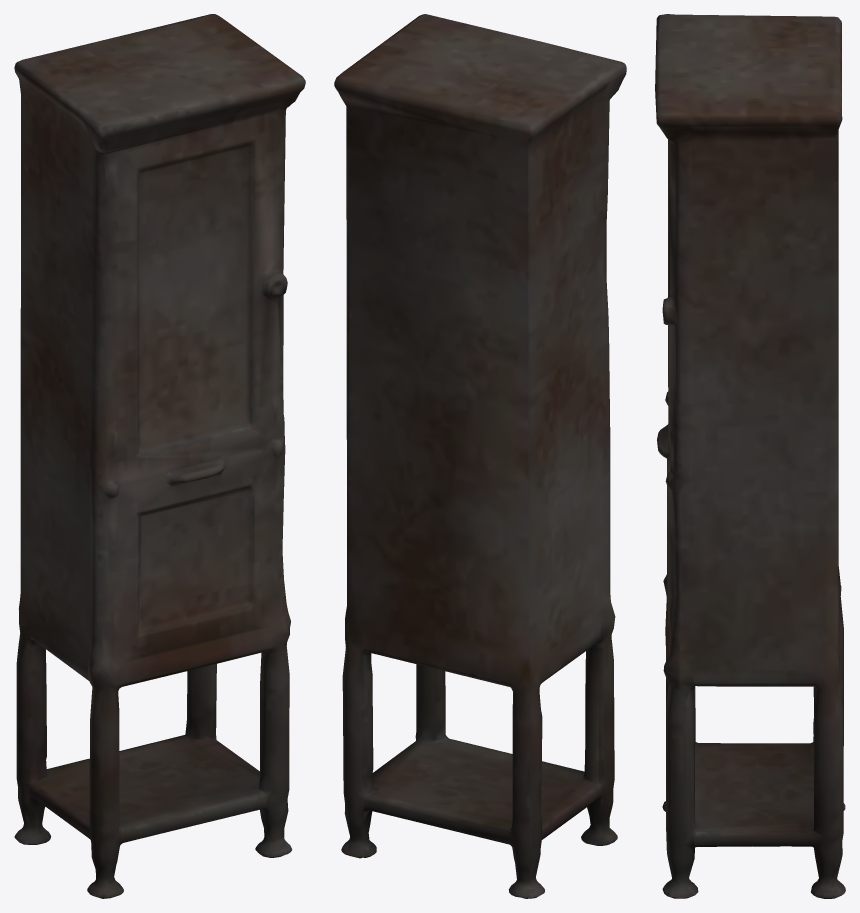
The model's file is weathered-iron-medicine-cabinet-v002.glb.
3 renders of one model, left to right at view 1: azimuth 30°, elevation 25°; view 2: azimuth 150°, elevation 25°; view 3: azimuth 270°, elevation 25°, orthographic.
Parts seen in each view (by area): view 1: weathered-iron-medicine-cabinet; view 2: weathered-iron-medicine-cabinet; view 3: weathered-iron-medicine-cabinet.
Boxes of the visible parts, bbox=[...] form: weathered-iron-medicine-cabinet: bbox=[14, 14, 305, 898]; weathered-iron-medicine-cabinet: bbox=[334, 14, 626, 898]; weathered-iron-medicine-cabinet: bbox=[655, 14, 845, 898].
Bounding box in the file's own units: 0.4964 × 1.78 × 0.3899.
Materials: 1 (1 with a texture image).
